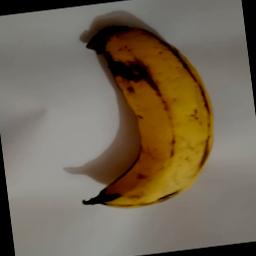Banana Unripe: (62, 16, 228, 220)
